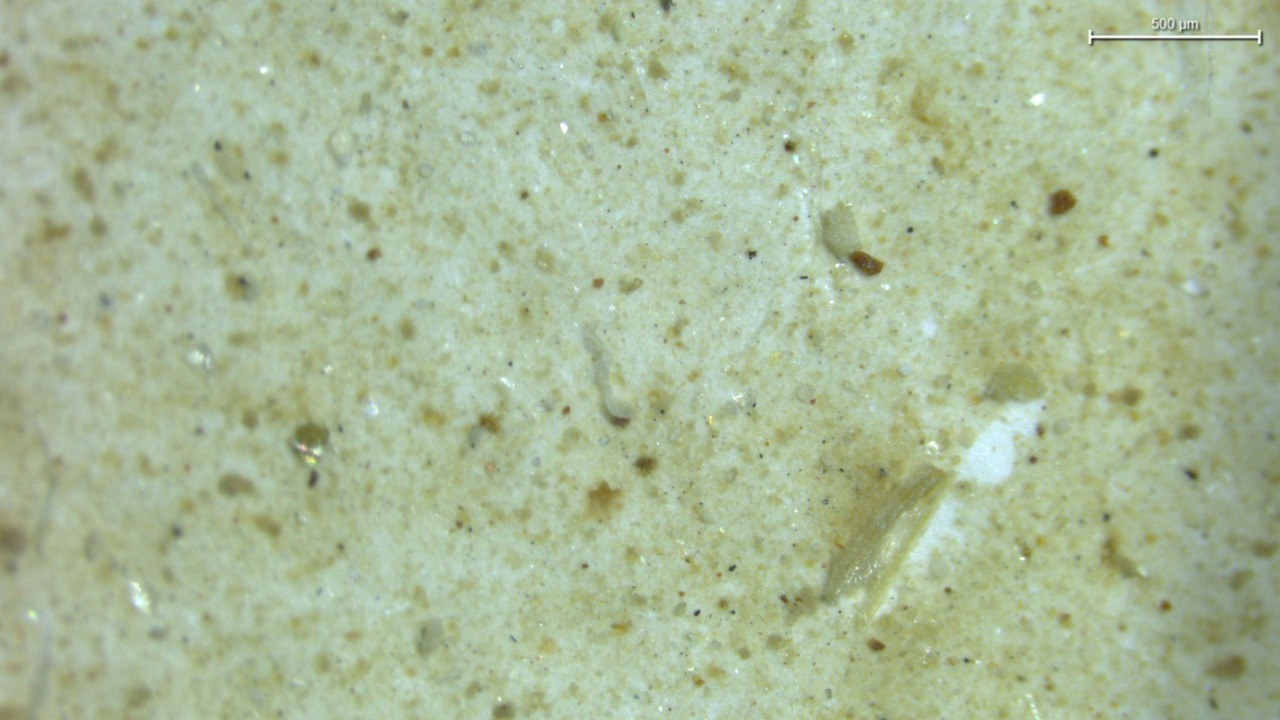microplastic_fragment: (820, 203, 862, 258)
